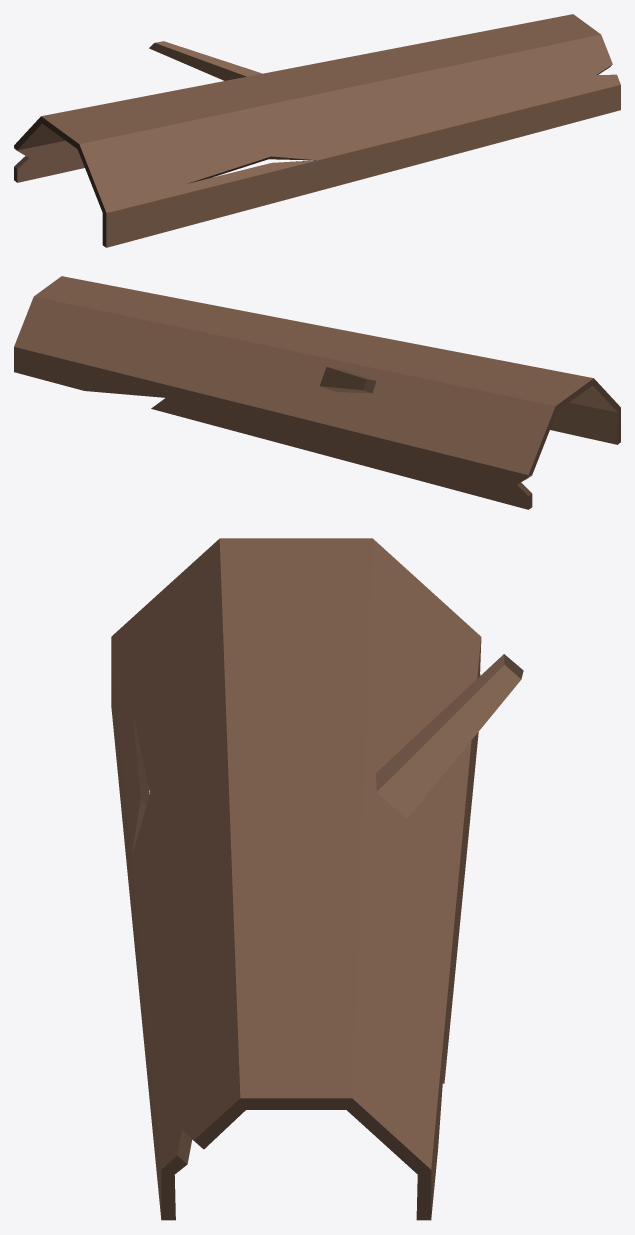
File: Log_4_Light_Brown.fbx
3 renders of one model, top to bottom at view 1: azimuth 30°, elevation 25°; view 2: azimuth 150°, elevation 25°; view 3: azimuth 270°, elevation 25°, orthographic. The views are drawn at different scales.
Visible parts, largest first — view 1: Log_4_Light_Brown; view 2: Log_4_Light_Brown; view 3: Log_4_Light_Brown.
Boxes of the visible parts, left/top/right/bottom form: Log_4_Light_Brown: left=14, top=14, right=620, bottom=247; Log_4_Light_Brown: left=14, top=276, right=620, bottom=509; Log_4_Light_Brown: left=111, top=538, right=523, bottom=1220.
Bounding box in the file's own units: 250 × 44.2 × 84.71.
